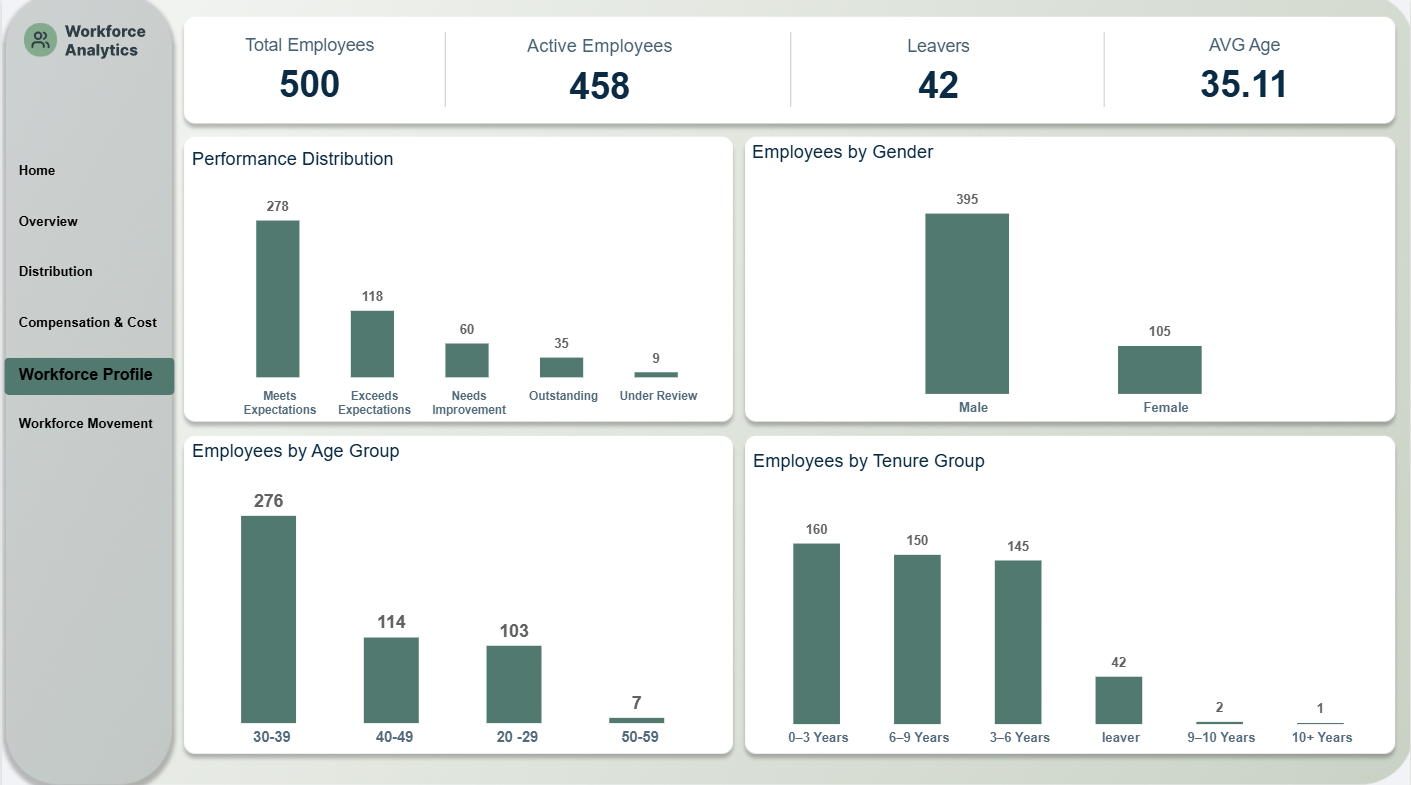

Layout of this report page (visuals, bound fields, positions):
{"tool":"powerbi","page":{"name":"Workforce Profile","canvas":[1280,720],"ordinal":4},"visuals":[{"type":"clusteredColumnChart","title":"Performance Distribution","fields":{"Y":["measures (2).Total Employees"],"Category":["employees.performance_rating"]},"box":[152.4,115.7,519.7,286.5],"z":0},{"type":"clusteredColumnChart","title":"Employees by Age Group","fields":{"Y":["measures (2).Total Employees"],"Category":["employees.age group"]},"box":[152.4,381.1,519.7,321.4],"z":1000},{"type":"clusteredColumnChart","title":"Employees by Gender","fields":{"Y":["measures (2).Total Employees"],"Category":["employees.gender"]},"box":[662,109.3,618,292.9],"z":2000},{"type":"cardVisual","fields":{"Data":["measures (2).Total Employees"]},"box":[198.6,6.2,163.2,96.7],"z":3000},{"type":"clusteredColumnChart","title":"Employees by Tenure Group","fields":{"Y":["measures (2).Total Employees"],"Category":["employees.Length of Service (Years) groups for emp"]},"box":[663,390.2,617,312.2],"z":4000},{"type":"cardVisual","fields":{"Data":["measures (2).Measure"]},"box":[1048.6,6.4,163.2,96.7],"z":5000},{"type":"cardVisual","fields":{"Data":["measures (2).Active Employees"]},"box":[454.5,1.8,178.2,106.4],"z":6000},{"type":"cardVisual","fields":{"Data":["measures (2).not active Employees"]},"box":[755.5,0,192.4,109.1],"z":7000},{"type":"image","box":[0,0,197.3,76.4],"z":7001},{"type":"pageNavigator","box":[0,140,159.1,270],"z":7002}]}

Visuals, with their boxes on the page's 1280x720 design canvas (x1, y1, x2, y2). These are canvas units, not pixel positions in the 1411x785 screenshot, which may show the page scaled, cropped or inside an application window:
"Performance Distribution" clusteredColumnChart: (left=152, top=116, right=672, bottom=402)
"Employees by Age Group" clusteredColumnChart: (left=152, top=381, right=672, bottom=702)
"Employees by Gender" clusteredColumnChart: (left=662, top=109, right=1280, bottom=402)
cardVisual - measures (2).Total Employees: (left=199, top=6, right=362, bottom=103)
"Employees by Tenure Group" clusteredColumnChart: (left=663, top=390, right=1280, bottom=702)
cardVisual - measures (2).Measure: (left=1049, top=6, right=1212, bottom=103)
cardVisual - measures (2).Active Employees: (left=454, top=2, right=633, bottom=108)
cardVisual - measures (2).not active Employees: (left=756, top=0, right=948, bottom=109)
image: (left=0, top=0, right=197, bottom=76)
pageNavigator: (left=0, top=140, right=159, bottom=410)
